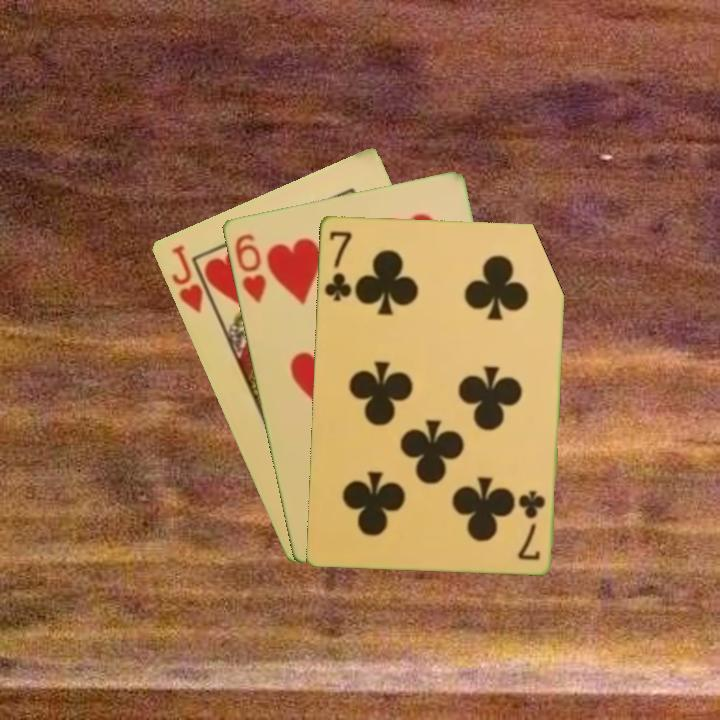6h: (230, 230, 269, 306)
7c: (320, 227, 355, 303), (515, 486, 547, 563)
Jh: (167, 241, 206, 316)
